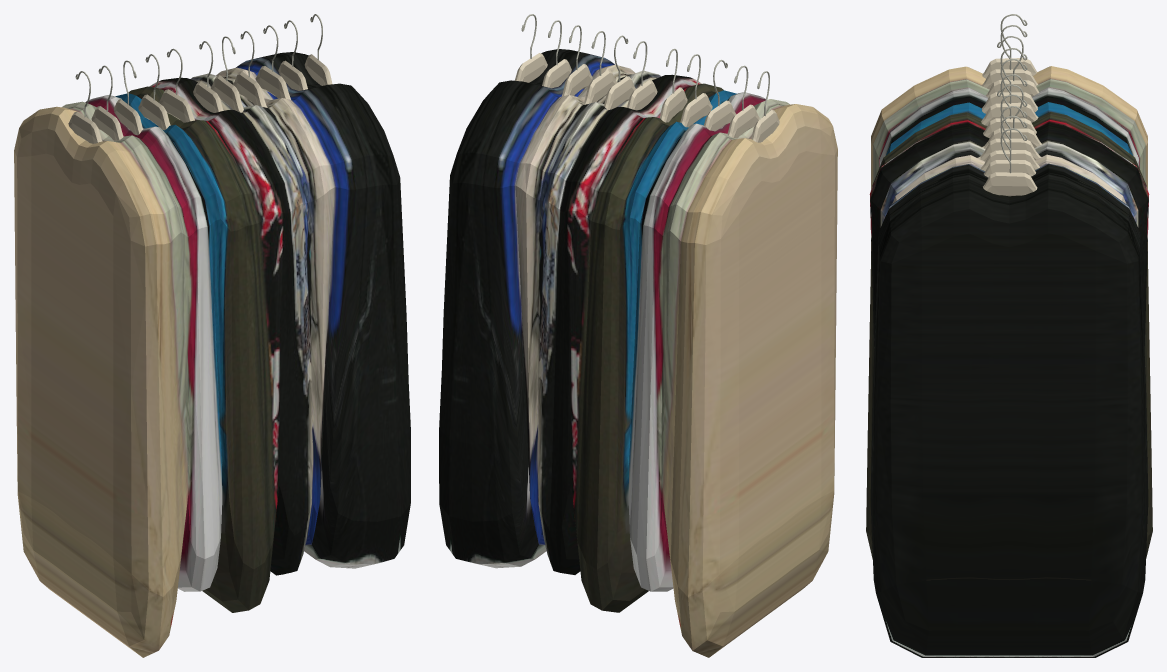
Rendered from sweethome3d-katorlegaz-hanging-clothes-81.glb.
3 views of the same model, side by side, from view 1: azimuth 30°, elevation 25°; view 2: azimuth 150°, elevation 25°; view 3: azimuth 270°, elevation 25° (orthographic).
Parts seen in each view (by area): view 1: Jen_clothes, Jen_hangers_1; view 2: Jen_clothes, Jen_hangers_1; view 3: Jen_clothes, Jen_hangers_1.
Part boxes in pixels (box(x1,y1,x2,y2)): Jen_clothes: box(14, 52, 410, 657); Jen_hangers_1: box(68, 14, 332, 143); Jen_clothes: box(439, 49, 837, 657); Jen_hangers_1: box(515, 14, 779, 142); Jen_clothes: box(866, 66, 1152, 657); Jen_hangers_1: box(977, 14, 1041, 196).
Bounding box in the file's own units: 62.07 × 116 × 54.4.
3 materials, 1 textured.
